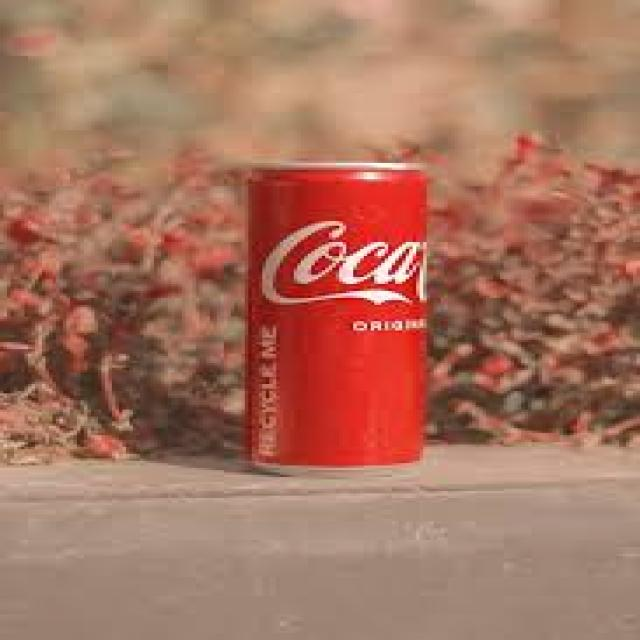Cans: (227, 146, 444, 482)
